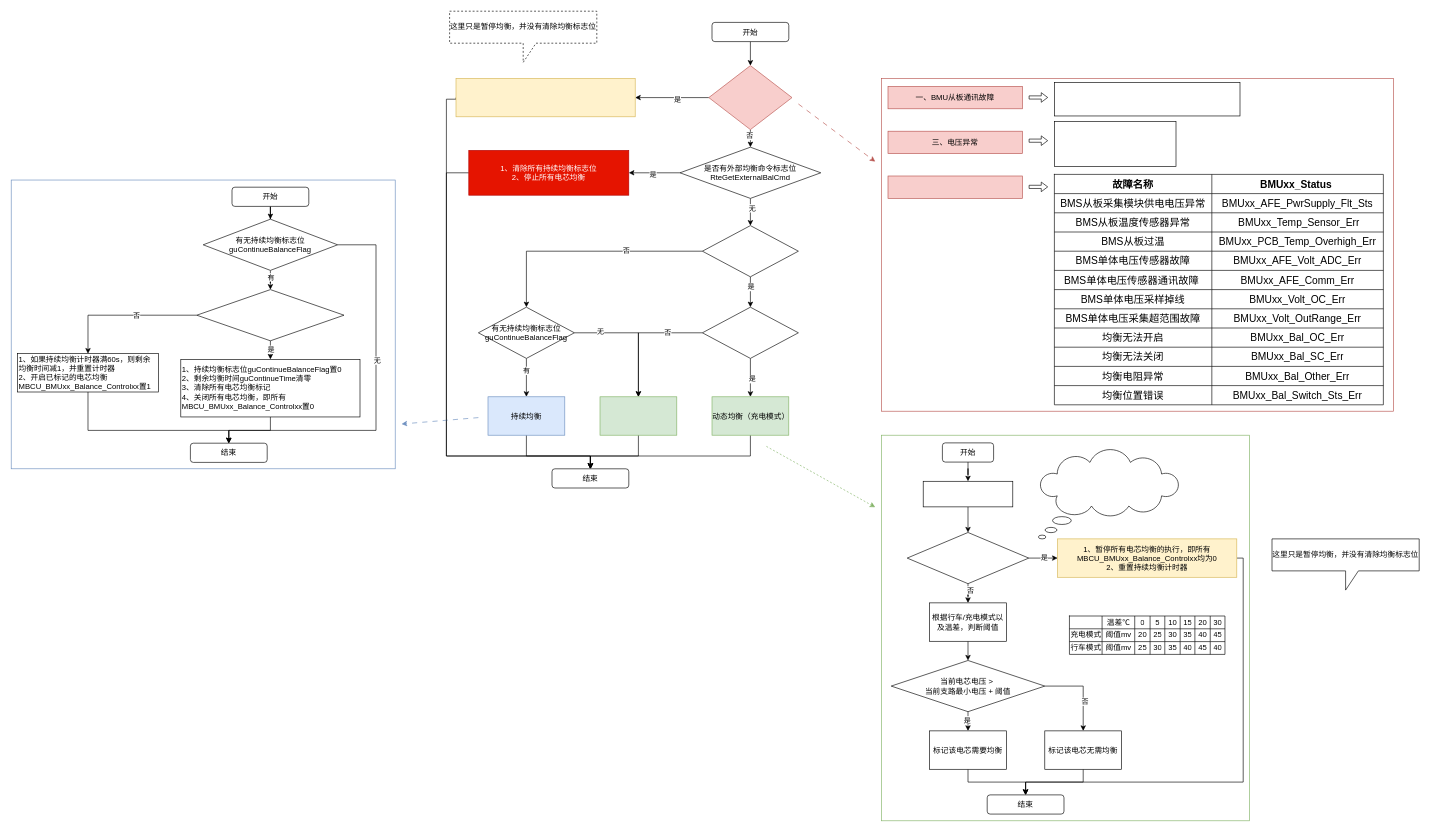
The diagram is 1430 pixels wide and 832 high, and some of its shapes have lost their labels. The shapes that lost their labels are listed below. From the top down, each one's box as (x1, y1, x2, y2) in pixels, then its label:
(455, 78, 635, 117): 1、暂停 所有电芯均衡，即所有MBCU_BMUxx_Balance_Controlxx置0 2、重置持续均衡计时器
(708, 65, 792, 130): 是否存在 禁止均衡的故障？
(1054, 82, 1240, 116): 判断 BMUxx_General_Inforamtionxx报文是否收到 判断 BMUxx_Status报文中的Life_Signal是否变化
(1054, 121, 1176, 166): 最小单体电压 > 4000mv 最小单体电压 < 2400mv 最大单体电压 > 4000mv 最大单体电压 < 1500mv
(887, 175, 1022, 198): 三、故障列表中静止均衡的条件
(702, 225, 798, 277): 是否处于DC/AC充电中？
(196, 289, 344, 341): 剩余均衡时间guContinueTime为0 或 最小电压 <= 2500mv
(702, 307, 798, 358): 总电流 < 0？ MBCU_Curr_Bus
(599, 396, 677, 435): 动态均衡（行车模式）
(923, 481, 1013, 507): 依次判断各支路
(1038, 449, 1179, 539): 行车模式但支路电流却小于0， 说明有问题， 停止所有均衡
(907, 532, 1029, 584): 行车模式 且 支路电流 < 0 MBCU_Curr_Bus_00、01、02
